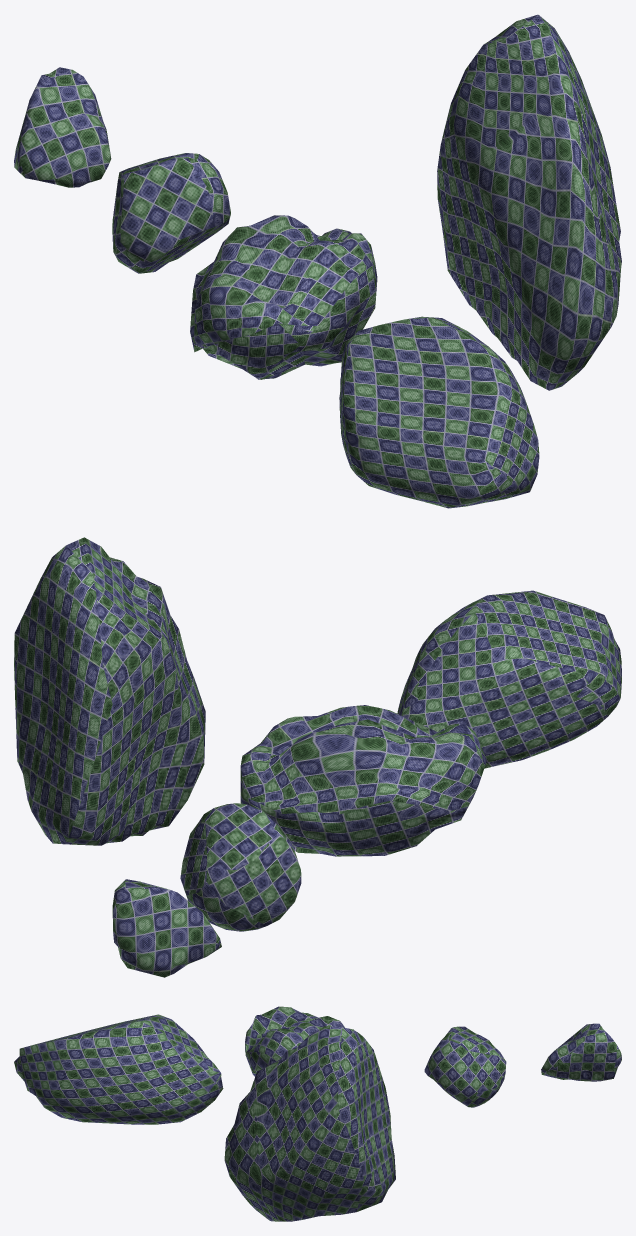
Rendered from M_RockClumps.FBX.
3 renders of one model, top to bottom at view 1: azimuth 30°, elevation 25°; view 2: azimuth 150°, elevation 25°; view 3: azimuth 270°, elevation 25°, orthographic. The views are drawn at different scales.
Parts seen in each view (by area): view 1: M_Rock02, M_Rock03, M_Rock01, M_Rock04, M_Rock00; view 2: M_Rock02, M_Rock01, M_Rock03, M_Rock04, M_Rock00; view 3: M_Rock02, M_Rock03, M_Rock04, M_Rock01, M_Rock00.
Boxes of the visible parts, box(x1,y1,x2,y2) form: M_Rock02: box(437, 14, 621, 390); M_Rock03: box(339, 316, 539, 508); M_Rock01: box(190, 215, 377, 379); M_Rock04: box(112, 153, 230, 273); M_Rock00: box(14, 67, 111, 187); M_Rock02: box(14, 537, 205, 845); M_Rock01: box(240, 705, 486, 856); M_Rock03: box(397, 590, 621, 768); M_Rock04: box(180, 803, 301, 931); M_Rock00: box(112, 879, 221, 977); M_Rock02: box(224, 1026, 395, 1221); M_Rock03: box(14, 1014, 223, 1124); M_Rock04: box(424, 1026, 506, 1107); M_Rock01: box(245, 1006, 344, 1076); M_Rock00: box(541, 1023, 621, 1081).
Bounding box in the file's own units: 6.53 × 4.58 × 12.36.
1 material, 1 textured.
